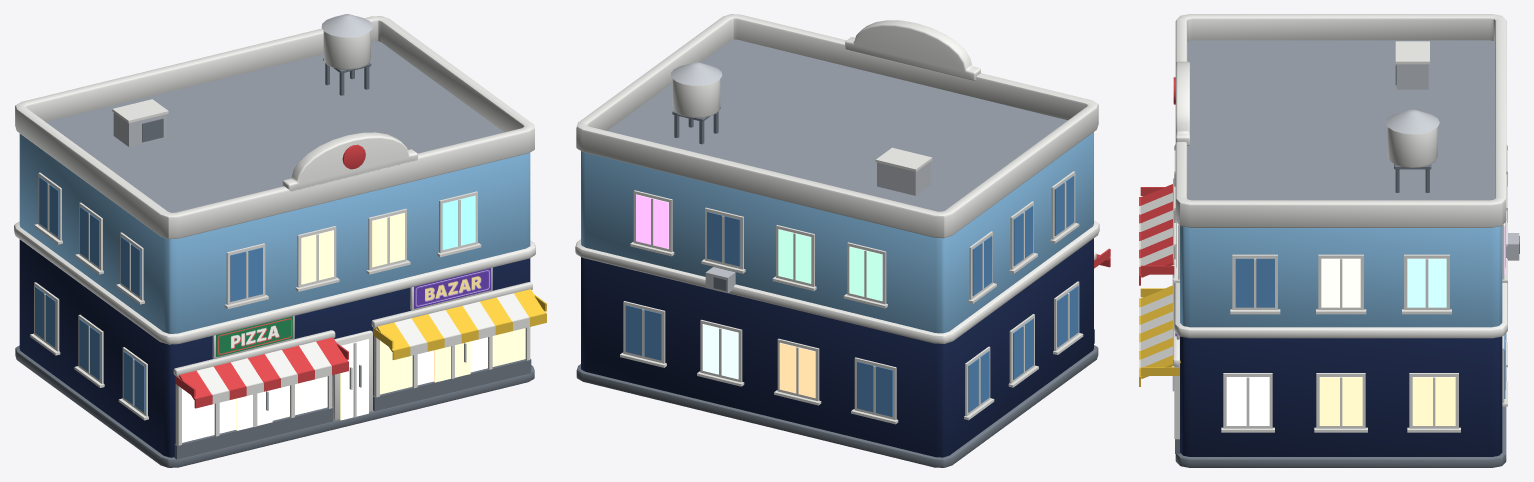
File: lojas_2andares_pizza.glb
The picture shows the model from 3 angles, left to right: view 1: azimuth 30°, elevation 25°; view 2: azimuth 150°, elevation 25°; view 3: azimuth 270°, elevation 25°; orthographic projection. The views are drawn at different scales.
Parts seen in each view (by area): view 1: lojas_2andares_pizza; view 2: lojas_2andares_pizza; view 3: lojas_2andares_pizza.
Boxes of the visible parts, x1,y1,x2,y2 form: lojas_2andares_pizza: (14, 14, 546, 467); lojas_2andares_pizza: (575, 14, 1110, 467); lojas_2andares_pizza: (1139, 14, 1519, 467).
Size of the model in its own units: 12.72 by 9.75 by 10.64.
Materials: 9 (2 with a texture image).
